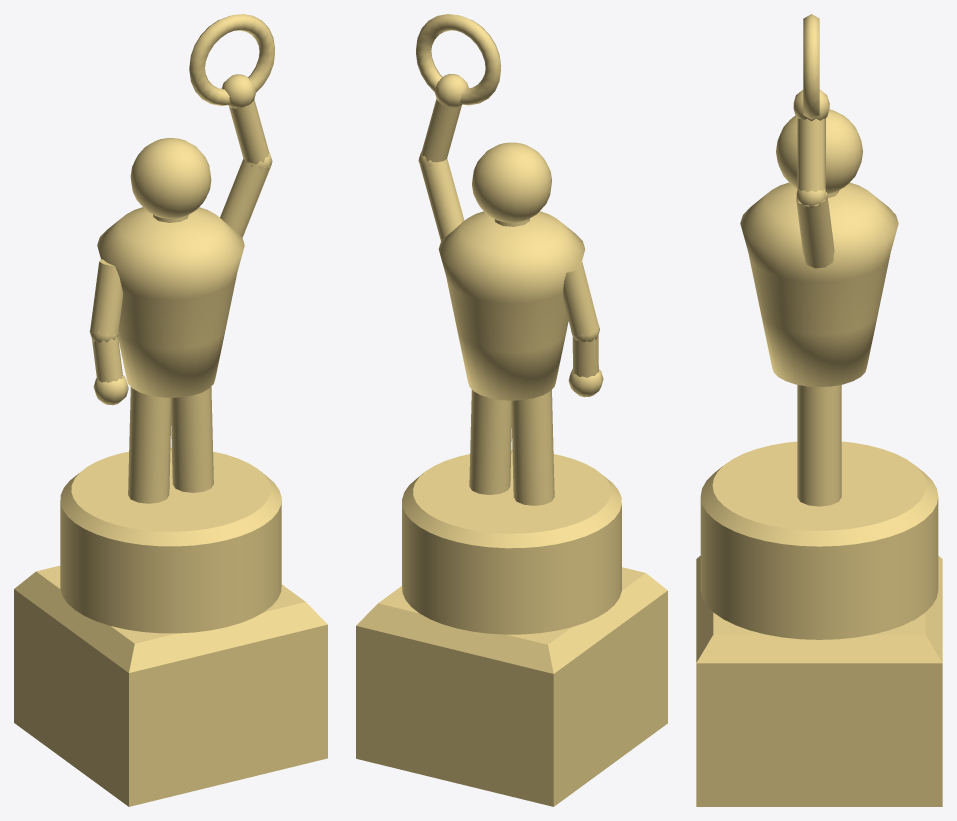
Rendered from figure.glb.
3 renders of one model, left to right at view 1: azimuth 30°, elevation 25°; view 2: azimuth 150°, elevation 25°; view 3: azimuth 270°, elevation 25°, orthographic. The views are drawn at different scales.
Visible parts, largest first — view 1: figure; view 2: figure; view 3: figure.
Part boxes in pixels (box(x1,y1,x2,y2)): figure: box(14, 14, 327, 806); figure: box(356, 14, 667, 806); figure: box(696, 14, 942, 806).
Size of the model in its own units: 0.3126 by 1.07 by 0.3112.
